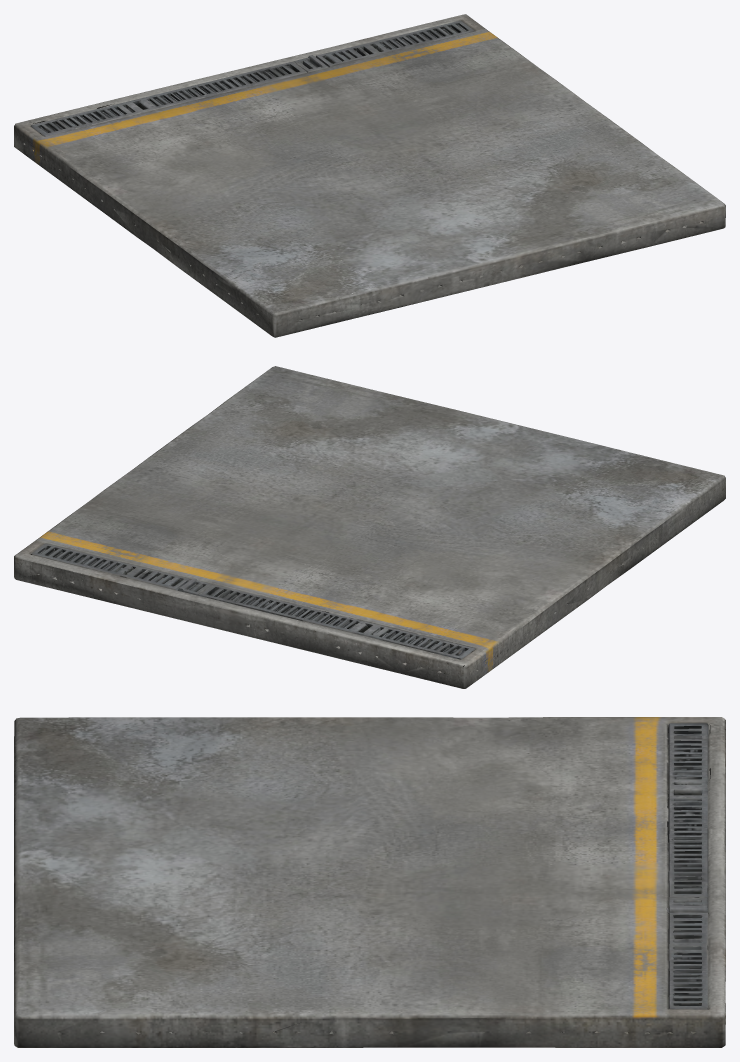
Rendered from dock-edge.glb.
3 views of the same model, one above another, from view 1: azimuth 30°, elevation 25°; view 2: azimuth 150°, elevation 25°; view 3: azimuth 270°, elevation 25° (orthographic). The views are drawn at different scales.
Parts seen in each view (by area): view 1: dock-edge; view 2: dock-edge; view 3: dock-edge.
Boxes of the visible parts, left/top/right/bottom form: dock-edge: left=14, top=14, right=725, bottom=337; dock-edge: left=14, top=366, right=725, bottom=688; dock-edge: left=14, top=717, right=725, bottom=1047.
Size of the model in its own units: 4 by 0.22 by 4.
1 material, 1 textured.
